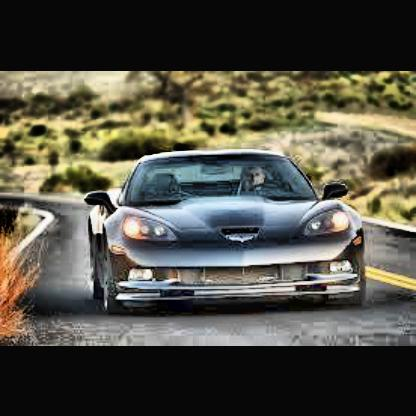Chevrolet Corvette ZR1 2012: (78, 145, 373, 316)
